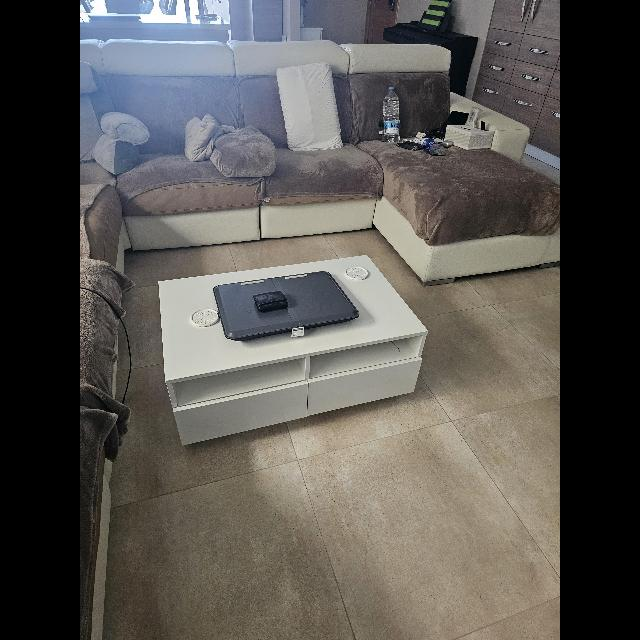Wallet: (252, 290, 290, 312)
